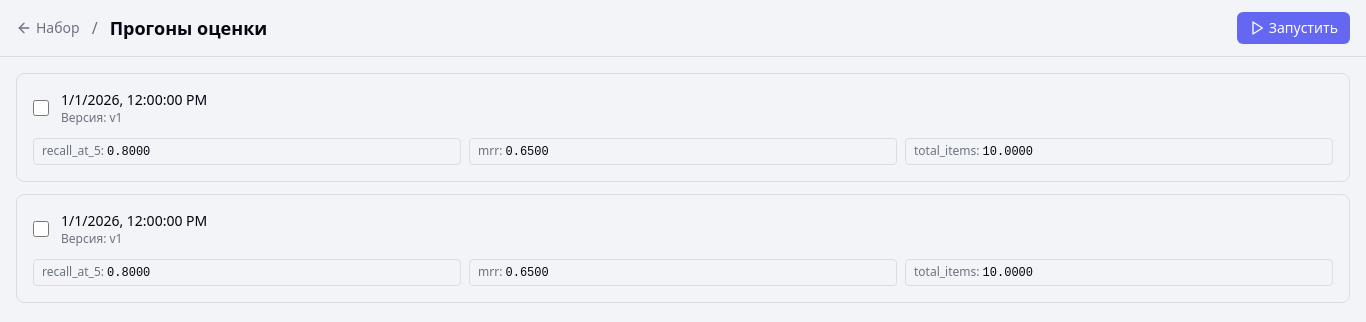
it: EvalRunsPage › shows compare button when 2+ runs selected
This screenshot has width=1366, height=322.
# Select two runs
Click the 1st checkbox at (41,108), box [33,100,49,116]
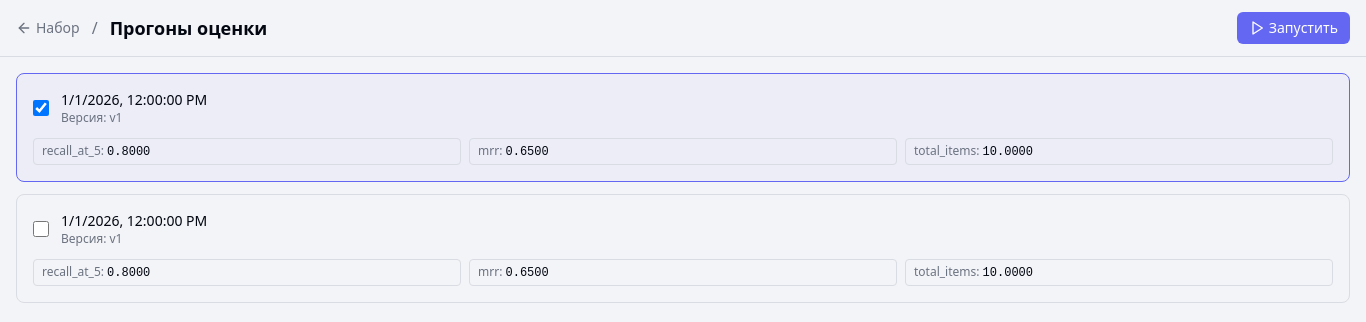
Click the 2nd checkbox at (41,229), box [33,221,49,237]
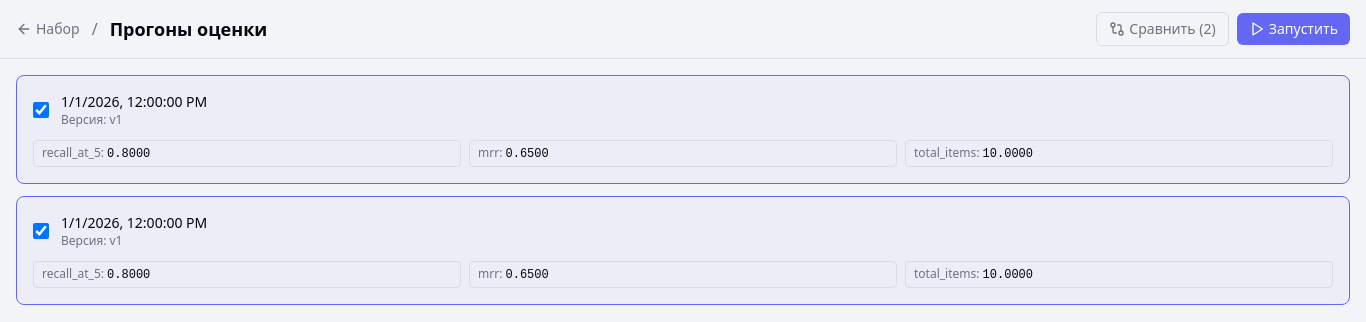
Check: the button "Сравнить (2)" is shown, box [1096,12,1229,46]
